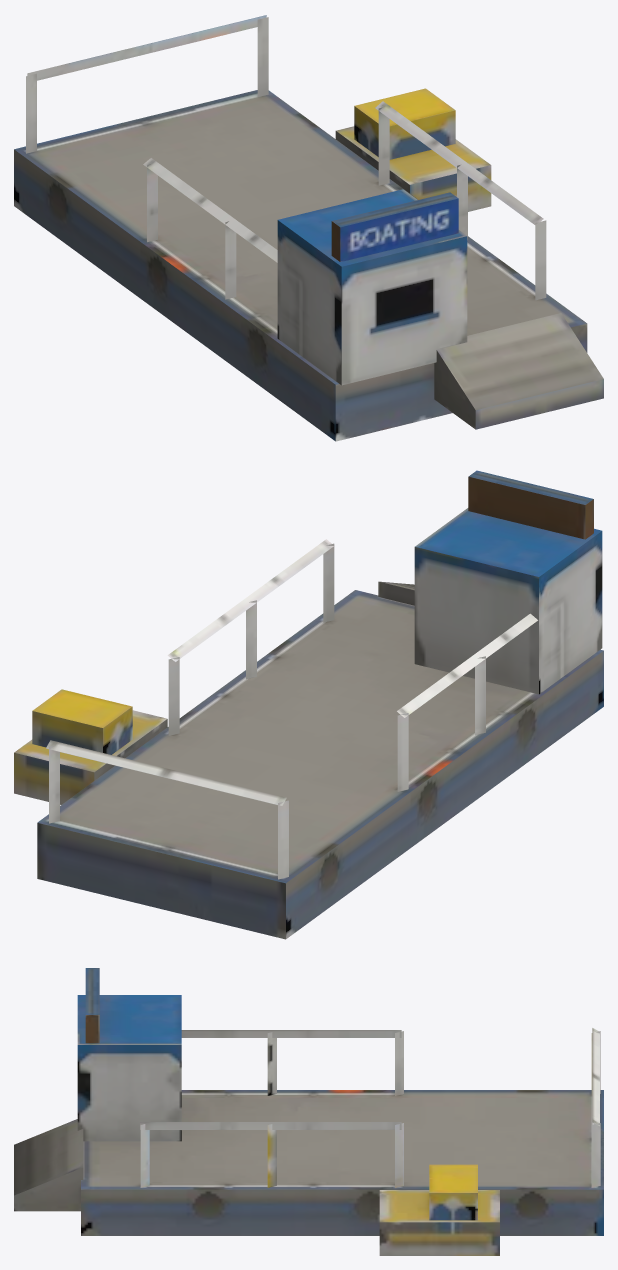
The model's file is lumbini_jetty.glb.
3 views of the same model, one above another, from view 1: azimuth 30°, elevation 25°; view 2: azimuth 150°, elevation 25°; view 3: azimuth 270°, elevation 25° (orthographic). The views are drawn at different scales.
Parts seen in each view (by area): view 1: lumbini_jetty_body; view 2: lumbini_jetty_body; view 3: lumbini_jetty_body.
Part boxes in pixels (x1=…): lumbini_jetty_body: x1=14, y1=15, x2=603, y2=441; lumbini_jetty_body: x1=14, y1=470, x2=603, y2=939; lumbini_jetty_body: x1=14, y1=968, x2=603, y2=1255.
Bounding box in the file's own units: 13.75 × 8.15 × 25.5.
1 material, 1 textured.
